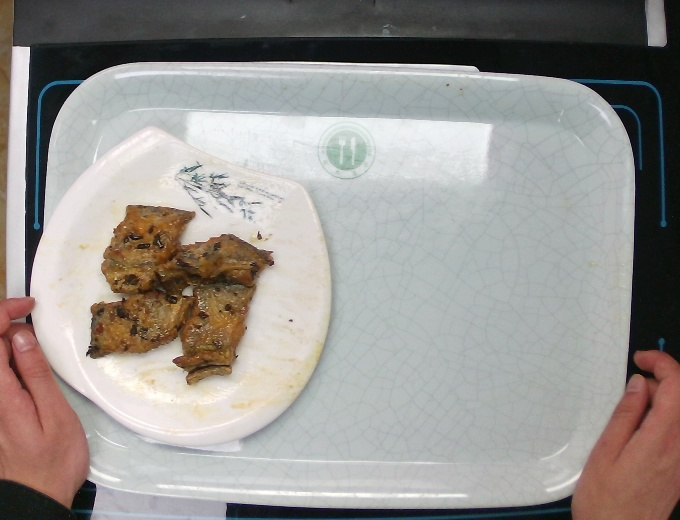JYsf-Mian_Pan: (25, 121, 336, 450)
